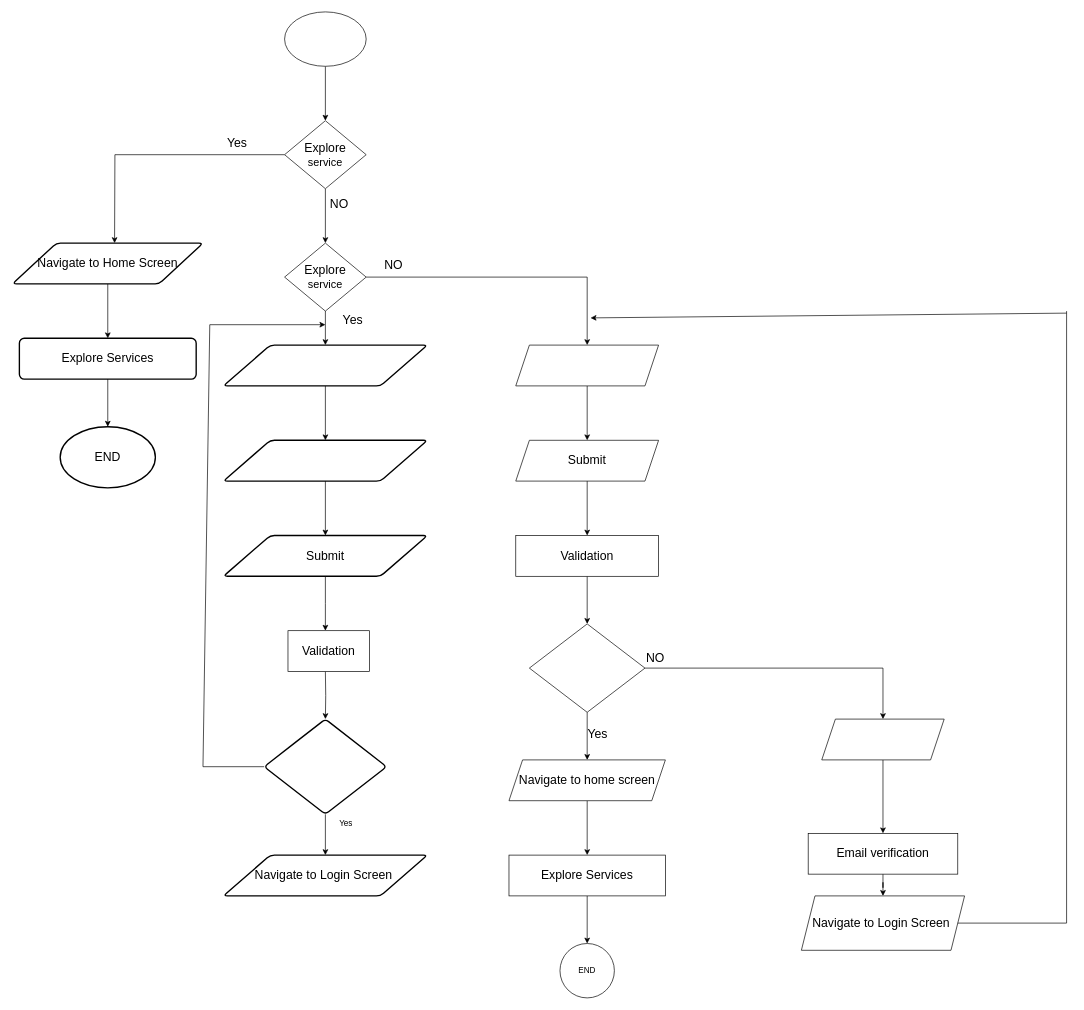
The diagram is 1084 pixels wide and 1010 high, and some of its shapes have lost their labels. The shapes that lost their labels are listed below. From the top down, each one's centre as x and y in pixels, then its label:
At point 325,38: "START".
At point 325,365: "Navigate to Sign up Screen".
At point 587,365: "Enter Username and Password".
At point 325,460: "Enter Credentials".
At point 587,667: "Verfied".
At point 882,739: "Navigate to Verify Screen".
At point 325,766: "Validated".
